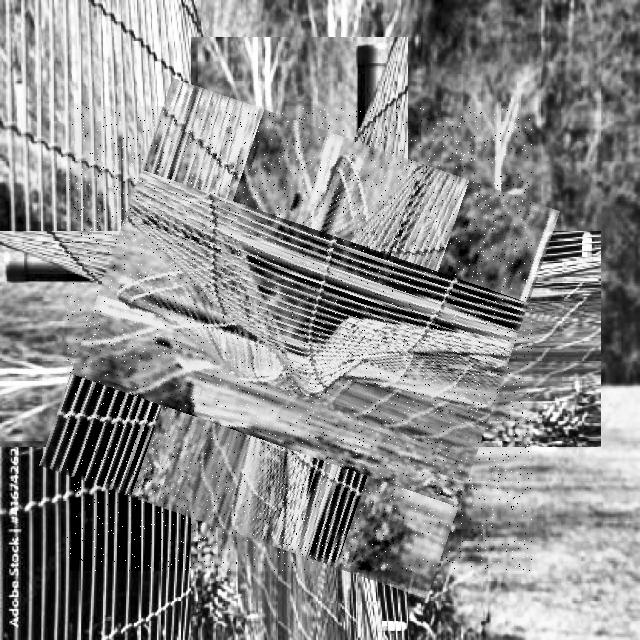anomaly-fence: (67, 106, 532, 571)
